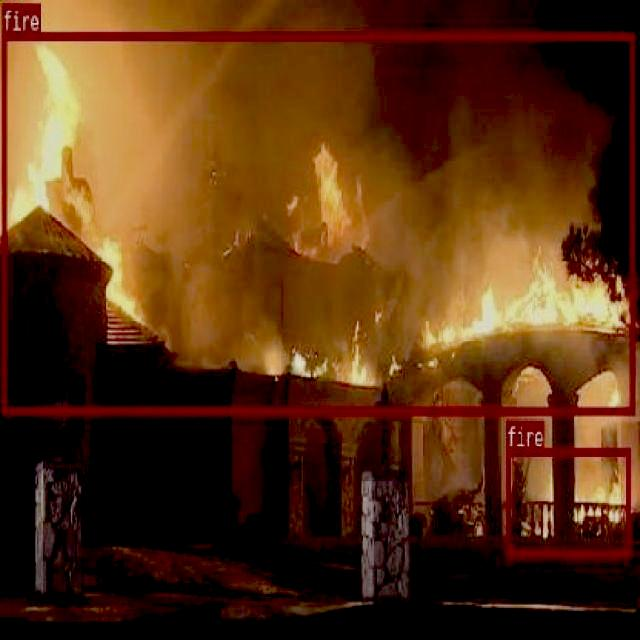fire: (1, 31, 634, 412), (504, 446, 630, 556)
